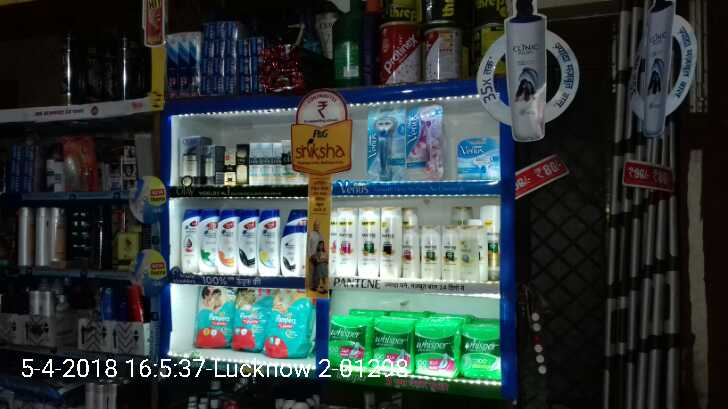venus: (365, 105, 405, 179), (405, 105, 444, 180), (457, 136, 499, 183)
